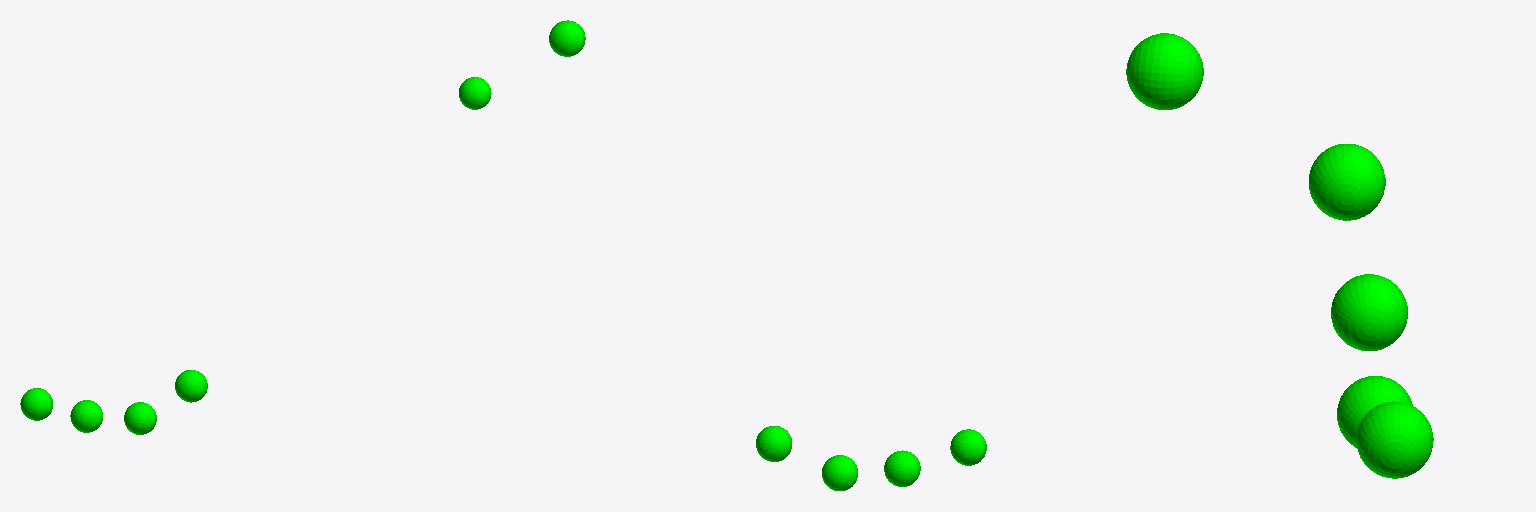
The robot description file, URDF, robot "inspire_left_hand":
<?xml version="1.0" encoding="utf-8"?>

<!-- 08012024-alpha-1 -->


<robot name="inspire_left_hand">
  <!-- <joint
    name="L_base_link_joint"
    type="fixed">
    <origin
    xyz="0 0 -0.022"
    rpy="0 0 0" />
    <parent link="left_end_effector_link"/>
    <child link="L_hand_base_link"/>
  </joint> -->

  <link name="L_hand_base_link">
    <inertial>
      <origin
        xyz="-0.002551 -0.066047 -0.0019357"
        rpy="0 0 0" />
      <mass
        value="0.14143" />
      <inertia
        ixx="0.0001234"
        ixy="2.1995E-06"
        ixz="-1.7694E-06"
        iyy="8.3835E-05"
        iyz="1.5968E-06"
        izz="7.7231E-05" />
    </inertial>
    <visual>
      <origin
        xyz="0 0 0"
        rpy="1.570796 0 1.570796" />
      <geometry>
        <mesh filename="../meshes/inspire_hand/base_link_l.STL" />
      </geometry>
      <material name="">
        <color rgba="1 1 1 1" />
      </material>
    </visual>
  </link>

  <link
    name="L_hand_wrist_link">
  </link>
  <joint
    name="L_hand_wrist_joint"
    type="fixed">
    <origin
      xyz="0 0 0"
      rpy="0 0 0" />
    <parent
      link="L_hand_base_link" />
    <child
      link="L_hand_wrist_link" />
    <axis
      xyz="0 0 0" />
  </joint>

  <link name="L_thumb_proximal_base">
    <inertial>
      <origin
        xyz="-0.0048817 0.00038782 -0.00722"
        rpy="0 0 0" />
      <mass
        value="0.0018869" />
      <inertia
        ixx="5.5158E-08"
        ixy="-1.1803E-08"
        ixz="-4.6743E-09"
        iyy="8.2164E-08"
        iyz="-1.3521E-09"
        izz="6.7434E-08" />
    </inertial>
    <visual>
      <origin
        xyz="0 0 0"
        rpy="0 0 0" />
      <geometry>
        <mesh filename="../meshes/inspire_hand/Link11_l.STL" />
      </geometry>
      <material name="">
        <color rgba="0.82745 0.83922 0.82745 1" />
      </material>
    </visual>
  </link>

  <joint
    name="L_thumb_proximal_yaw_joint"
    type="revolute">
    <origin
      xyz="0.02045 -0.01696 -0.0691"
      rpy="3.14 0 0" />
    <parent
      link="L_hand_base_link" />
    <child
      link="L_thumb_proximal_base" />
    <axis
      xyz="0 0 1" />
    <limit
      lower="-0.1"
      upper="1.3"
      effort="1"
      velocity="0.5" />
  </joint>

  <link name="L_thumb_proximal">
    <inertial>
      <origin
        xyz="0.021936 -0.01279 -0.0080386"
        rpy="0 0 0" />
      <mass
        value="0.0066101" />
      <inertia
        ixx="1.5693E-06"
        ixy="7.8339E-07"
        ixz="8.5959E-10"
        iyy="1.7356E-06"
        iyz="1.0378E-09"
        izz="2.787E-06" />
    </inertial>
    <visual>
      <origin
        xyz="0 0 0"
        rpy="0 0 0" />
      <geometry>
        <mesh filename="../meshes/inspire_hand/Link12_l.STL" />
      </geometry>
      <material name="">
        <color rgba="1 1 1 1" />
      </material>
    </visual>
  </link>

  <joint
    name="L_thumb_proximal_pitch_joint"
    type="revolute">
    <origin
      xyz="0.0099867 0.0098242 -0.0089"
      rpy="-1.5708 0 0.16939" />
    <parent
      link="L_thumb_proximal_base" />
    <child
      link="L_thumb_proximal" />
    <axis
      xyz="0 0 -1" />
    <limit
      lower="-0.1"
      upper="0.6"
      effort="1"
      velocity="0.5" />
  </joint>

  <link name="L_thumb_intermediate">
    <inertial>
      <origin
        xyz="0.0095531 0.0016282 -0.0072002"
        rpy="0 0 0" />
      <mass
        value="0.0037844" />
      <inertia
        ixx="3.6981E-07"
        ixy="9.8603E-08"
        ixz="-2.8173E-12"
        iyy="3.2395E-07"
        iyz="-2.8028E-12"
        izz="4.6532E-07" />
    </inertial>
    <visual>
      <origin
        xyz="0 0 0"
        rpy="0 0 0" />
      <geometry>
        <mesh filename="../meshes/inspire_hand/Link13_l.STL" />
      </geometry>
      <material name="">
        <color rgba="1 1 1 1" />
      </material>
    </visual>
  </link>

  <joint
    name="L_thumb_intermediate_joint"
    type="revolute">
    <origin
      xyz="0.04407 -0.034553 -0.0008"
      rpy="0 0 0" />
    <parent
      link="L_thumb_proximal" />
    <child
      link="L_thumb_intermediate" />
    <axis
      xyz="0 0 -1" />
    <limit
      lower="0"
      upper="0.8"
      effort="1"
      velocity="0.5" />
    <mimic
      joint="L_thumb_proximal_pitch_joint"
      multiplier="1.6"
      offset="0" />
  </joint>

  <link name="L_thumb_distal">
    <inertial>
      <origin
        xyz="0.0092888 -0.004953 -0.0060033"
        rpy="0 0 0" />
      <mass
        value="0.003344" />
      <inertia
        ixx="1.3632E-07"
        ixy="5.6787E-08"
        ixz="-9.1939E-11"
        iyy="1.4052E-07"
        iyz="1.2145E-10"
        izz="2.0026E-07" />
    </inertial>
    <visual>
      <origin
        xyz="0 0 0"
        rpy="0 0 0" />
      <geometry>
        <mesh filename="../meshes/inspire_hand/Link14_l.STL" />
      </geometry>
      <material name="">
        <color rgba="1 1 1 1" />
      </material>
    </visual>
  </link>

  <joint
    name="L_thumb_distal_joint"
    type="revolute">
    <origin
      xyz="0.020248 -0.010156 -0.0012"
      rpy="0 0 0" />
    <parent
      link="L_thumb_intermediate" />
    <child
      link="L_thumb_distal" />
    <axis
      xyz="0 0 -1" />
    <limit
      lower="0"
      upper="1.2"
      effort="1"
      velocity="0.5" />
    <mimic
      joint="L_thumb_proximal_pitch_joint"
      multiplier="2.4"
      offset="0" />
  </joint>


  <link name="L_thumb_tip">
    <visual>
      <origin
        xyz="0 0 0"
        rpy="0 0 0" />
      <geometry>
        <sphere radius="0.005" />
      </geometry>
      <material name="green">
        <color rgba="0 1 0 1" />
      </material>
    </visual>
  </link>
  <joint name="L_thumb_tip_joint" type="fixed">
    <parent link="L_thumb_distal" />
    <child link="L_thumb_tip" />
    <origin rpy="0 0 0" xyz="0.015 -0.013 -0.004" />
  </joint>


  <link name="L_index_proximal">
    <inertial>
      <origin
        xyz="0.0012971 -0.011934 -0.0059998"
        rpy="0 0 0" />
      <mass
        value="0.0042405" />
      <inertia
        ixx="6.6215E-07"
        ixy="1.8442E-08"
        ixz="1.3746E-12"
        iyy="2.1167E-07"
        iyz="-1.4773E-11"
        izz="6.9402E-07" />
    </inertial>
    <visual>
      <origin
        xyz="0 0 0"
        rpy="0 0 0" />
      <geometry>
        <mesh filename="../meshes/inspire_hand/Link15_l.STL" />
      </geometry>
      <material name="">
        <color rgba="0.79216 0.81961 0.93333 1" />
      </material>
    </visual>
  </link>

  <joint
    name="L_index_proximal_joint"
    type="revolute">
    <origin
      xyz="0.032268 0.00028533 -0.13653"
      rpy="1.5708 -0.034907 1.5708" />
    <parent
      link="L_hand_base_link" />
    <child
      link="L_index_proximal" />
    <axis
      xyz="0 0 -1" />
    <limit
      lower="0"
      upper="1.7"
      effort="1"
      velocity="0.5" />
  </joint>

  <link name="L_index_intermediate">
    <inertial>
      <origin
        xyz="0.0021753 -0.019567 -0.005"
        rpy="0 0 0" />
      <mass
        value="0.0045682" />
      <inertia
        ixx="7.6284E-07"
        ixy="-8.063E-08"
        ixz="3.6797E-13"
        iyy="9.4308E-08"
        iyz="1.5743E-13"
        izz="7.8176E-07" />
    </inertial>
    <visual>
      <origin
        xyz="0 0 0"
        rpy="0 0 0" />
      <geometry>
        <mesh filename="../meshes/inspire_hand/Link16_l.STL" />
      </geometry>
      <material name="">
        <color rgba="1 1 1 1" />
      </material>
    </visual>
  </link>

  <joint
    name="L_index_intermediate_joint"
    type="revolute">
    <origin
      xyz="-0.0024229 -0.032041 -0.001"
      rpy="0 0 0" />
    <parent
      link="L_index_proximal" />
    <child
      link="L_index_intermediate" />
    <axis
      xyz="0 0 -1" />
    <limit
      lower="0"
      upper="1.7"
      effort="1"
      velocity="0.5" />
    <mimic
      joint="L_index_proximal_joint"
      multiplier="1"
      offset="0" />
  </joint>



  <link name="L_index_tip">
    <visual>
      <origin
        xyz="0 0 0"
        rpy="0 0 0" />
      <geometry>
        <sphere radius="0.005" />
      </geometry>
      <material name="green">
        <color rgba="0 1 0 1" />
      </material>
    </visual>
  </link>
  <joint name="L_index_tip_joint" type="fixed">
    <parent link="L_index_intermediate" />
    <child link="L_index_tip" />
    <origin rpy="0 0 0" xyz="-0.005 -0.04 -0.004" />
  </joint>



  <link name="L_middle_proximal">
    <inertial>
      <origin
        xyz="0.0012971 -0.011934 -0.0059999"
        rpy="0 0 0" />
      <mass
        value="0.0042405" />
      <inertia
        ixx="6.6215E-07"
        ixy="1.8442E-08"
        ixz="1.2299E-12"
        iyy="2.1167E-07"
        iyz="-1.4484E-11"
        izz="6.9402E-07" />
    </inertial>
    <visual>
      <origin
        xyz="0 0 0"
        rpy="0 0 0" />
      <geometry>
        <mesh filename="../meshes/inspire_hand/Link17_l.STL" />
      </geometry>
      <material name="">
        <color rgba="0.79216 0.81961 0.93333 1" />
      </material>
    </visual>
  </link>

  <joint
    name="L_middle_proximal_joint"
    type="revolute">
    <origin
      xyz="0.01295 0.00028533 -0.1371"
      rpy="1.5708 0 1.5708" />
    <parent
      link="L_hand_base_link" />
    <child
      link="L_middle_proximal" />
    <axis
      xyz="0 0 -1" />
    <limit
      lower="0"
      upper="1.7"
      effort="1"
      velocity="0.5" />
  </joint>

  <link name="L_middle_intermediate">
    <inertial>
      <origin
        xyz="0.001921 -0.020796 -0.0049999"
        rpy="0 0 0" />
      <mass
        value="0.0050397" />
      <inertia
        ixx="9.5823E-07"
        ixy="-1.1425E-07"
        ixz="-2.4186E-12"
        iyy="1.0646E-07"
        iyz="3.6974E-12"
        izz="9.8385E-07" />
    </inertial>
    <visual>
      <origin
        xyz="0 0 0"
        rpy="0 0 0" />
      <geometry>
        <mesh filename="../meshes/inspire_hand/Link18_l.STL" />
      </geometry>
      <material name="">
        <color rgba="0.82745 0.83922 0.82745 1" />
      </material>
    </visual>
  </link>

  <joint
    name="L_middle_intermediate_joint"
    type="revolute">
    <origin
      xyz="-0.0024229 -0.032041 -0.001"
      rpy="0 0 0" />
    <parent
      link="L_middle_proximal" />
    <child
      link="L_middle_intermediate" />
    <axis
      xyz="0 0 -1" />
    <limit
      lower="0"
      upper="1.7"
      effort="1"
      velocity="0.5" />
    <mimic
      joint="L_middle_proximal_joint"
      multiplier="1"
      offset="0" />
  </joint>


  <link name="L_middle_tip">
    <visual>
      <origin
        xyz="0 0 0"
        rpy="0 0 0" />
      <geometry>
        <sphere radius="0.005" />
      </geometry>
      <material name="green">
        <color rgba="0 1 0 1" />
      </material>
    </visual>
  </link>
  <joint name="L_middle_tip_joint" type="fixed">
    <parent link="L_middle_intermediate" />
    <child link="L_middle_tip" />
    <origin rpy="0 0 0" xyz="-0.005 -0.045 -0.004" />
  </joint>



  <link name="L_ring_proximal">
    <inertial>
      <origin
        xyz="0.0012971 -0.011934 -0.0059999"
        rpy="0 0 0" />
      <mass
        value="0.0042405" />
      <inertia
        ixx="6.6215E-07"
        ixy="1.8442E-08"
        ixz="9.6052E-13"
        iyy="2.1167E-07"
        iyz="-1.4124E-11"
        izz="6.9402E-07" />
    </inertial>
    <visual>
      <origin
        xyz="0 0 0"
        rpy="0 0 0" />
      <geometry>
        <mesh filename="../meshes/inspire_hand/Link19_l.STL" />
      </geometry>
      <material name="">
        <color rgba="0.79216 0.81961 0.93333 1" />
      </material>
    </visual>
  </link>

  <joint
    name="L_ring_proximal_joint"
    type="revolute">
    <origin
      xyz="-0.0062872 0.00028533 -0.13691"
      rpy="1.5708 0.05236 1.5708" />
    <parent
      link="L_hand_base_link" />
    <child
      link="L_ring_proximal" />
    <axis
      xyz="0 0 -1" />
    <limit
      lower="0"
      upper="1.7"
      effort="1"
      velocity="0.5" />
  </joint>

  <link name="L_ring_intermediate">
    <inertial>
      <origin
        xyz="0.0021753 -0.019567 -0.005"
        rpy="0 0 0" />
      <mass
        value="0.0045682" />
      <inertia
        ixx="7.6285E-07"
        ixy="-8.0631E-08"
        ixz="3.3472E-14"
        iyy="9.4308E-08"
        iyz="-4.4773E-13"
        izz="7.8176E-07" />
    </inertial>
    <visual>
      <origin
        xyz="0 0 0"
        rpy="0 0 0" />
      <geometry>
        <mesh filename="../meshes/inspire_hand/Link20_l.STL" />
      </geometry>
      <material name="">
        <color rgba="1 1 1 1" />
      </material>
    </visual>
  </link>

  <joint
    name="L_ring_intermediate_joint"
    type="revolute">
    <origin
      xyz="-0.0024229 -0.032041 -0.001"
      rpy="0 0 0" />
    <parent
      link="L_ring_proximal" />
    <child
      link="L_ring_intermediate" />
    <axis
      xyz="0 0 -1" />
    <limit
      lower="0"
      upper="1.7"
      effort="1"
      velocity="0.5" />
    <mimic
      joint="L_ring_proximal_joint"
      multiplier="1"
      offset="0" />
  </joint>



  <link name="L_ring_tip">
    <visual>
      <origin
        xyz="0 0 0"
        rpy="0 0 0" />
      <geometry>
        <sphere radius="0.005" />
      </geometry>
      <material name="green">
        <color rgba="0 1 0 1" />
      </material>
    </visual>
  </link>
  <joint name="L_ring_tip_joint" type="fixed">
    <parent link="L_ring_intermediate" />
    <child link="L_ring_tip" />
    <origin rpy="0 0 0" xyz="-0.002 -0.04 -0.004" />
  </joint>



  <link name="L_pinky_proximal">
    <inertial>
      <origin
        xyz="0.0012971 -0.011934 -0.0059999"
        rpy="0 0 0" />
      <mass
        value="0.0042405" />
      <inertia
        ixx="6.6215E-07"
        ixy="1.8442E-08"
        ixz="1.0279E-12"
        iyy="2.1167E-07"
        iyz="-1.4277E-11"
        izz="6.9402E-07" />
    </inertial>
    <visual>
      <origin
        xyz="0 0 0"
        rpy="0 0 0" />
      <geometry>
        <mesh filename="../meshes/inspire_hand/Link21_l.STL" />
      </geometry>
      <material name="">
        <color rgba="0.79216 0.81961 0.93333 1" />
      </material>
    </visual>
  </link>

  <joint
    name="L_pinky_proximal_joint"
    type="revolute">
    <origin
      xyz="-0.025488 0.00028533 -0.13571"
      rpy="1.5708 0.10472 1.5708" />
    <parent
      link="L_hand_base_link" />
    <child
      link="L_pinky_proximal" />
    <axis
      xyz="0 0 -1" />
    <limit
      lower="0"
      upper="1.7"
      effort="1"
      velocity="0.5" />
  </joint>

  <link name="L_pinky_intermediate">
    <inertial>
      <origin
        xyz="0.0024788 -0.016208 -0.0050001"
        rpy="0 0 0" />
      <mass
        value="0.0036036" />
      <inertia
        ixx="4.3923E-07"
        ixy="-4.1355E-08"
        ixz="1.2263E-12"
        iyy="7.0315E-08"
        iyz="3.1311E-12"
        izz="4.4881E-07" />
    </inertial>
    <visual>
      <origin
        xyz="0 0 0"
        rpy="0 0 0" />
      <geometry>
        <mesh filename="../meshes/inspire_hand/Link22_l.STL" />
      </geometry>
      <material name="">
        <color rgba="1 1 1 1" />
      </material>
    </visual>
  </link>

  <joint
    name="L_pinky_intermediate_joint"
    type="revolute">
    <origin
      xyz="-0.0024229 -0.032041 -0.001"
      rpy="0 0 0" />
    <parent
      link="L_pinky_proximal" />
    <child
      link="L_pinky_intermediate" />
    <axis
      xyz="0 0 -1" />
    <limit
      lower="0"
      upper="1.7"
      effort="1"
      velocity="0.5" />
    <mimic
      joint="L_pinky_proximal_joint"
      multiplier="1"
      offset="0" />
  </joint>


  <link name="L_pinky_tip">
    <visual>
      <origin
        xyz="0 0 0"
        rpy="0 0 0" />
      <geometry>
        <sphere radius="0.005" />
      </geometry>
      <material name="green">
        <color rgba="0 1 0 1" />
      </material>
    </visual>
  </link>
  <joint name="L_pinky_tip_joint" type="fixed">
    <parent link="L_pinky_intermediate" />
    <child link="L_pinky_tip" />
    <origin rpy="0 0 0" xyz="-0.002 -0.032 -0.004" />
  </joint>

</robot>

--- What the picture shows (computed from the rendered views, not written in the file) ---
Views: 3 orthographic renders of the robot side by side, from view 1: azimuth 30°, elevation 25°; view 2: azimuth 150°, elevation 25°; view 3: azimuth 270°, elevation 25°.
Model inspire_left_hand with 19 links and 18 joints (12 revolute, 6 fixed), rooted at L_hand_base_link, posed every joint at zero.
Visible links, largest first — view 1: L_middle_tip, L_index_tip, L_ring_tip, L_pinky_tip, L_thumb_tip; view 2: L_ring_tip, L_thumb_tip, L_pinky_tip, L_index_tip, L_middle_tip; view 3: L_thumb_tip, L_pinky_tip, L_ring_tip, L_index_tip, L_middle_tip.
Boxes of the visible links, x1,y1,x2,y2 form: L_middle_tip: [124, 402, 156, 434]; L_index_tip: [175, 370, 207, 402]; L_ring_tip: [70, 400, 102, 432]; L_pinky_tip: [20, 388, 52, 420]; L_thumb_tip: [459, 77, 491, 109]; L_ring_tip: [884, 450, 920, 486]; L_thumb_tip: [549, 20, 585, 56]; L_pinky_tip: [950, 429, 986, 465]; L_index_tip: [756, 426, 791, 461]; L_middle_tip: [822, 455, 857, 490]; L_thumb_tip: [1126, 33, 1203, 109]; L_pinky_tip: [1309, 144, 1385, 220]; L_ring_tip: [1331, 274, 1407, 350]; L_index_tip: [1356, 401, 1433, 478]; L_middle_tip: [1337, 376, 1412, 447].
Size in the robot's own frame: 0.1501 by 0.0397 by 0.1063 metres.
0 mesh visuals loaded from 13 distinct referenced files (none loaded); not drawn: 13 (file found but could not be loaded).